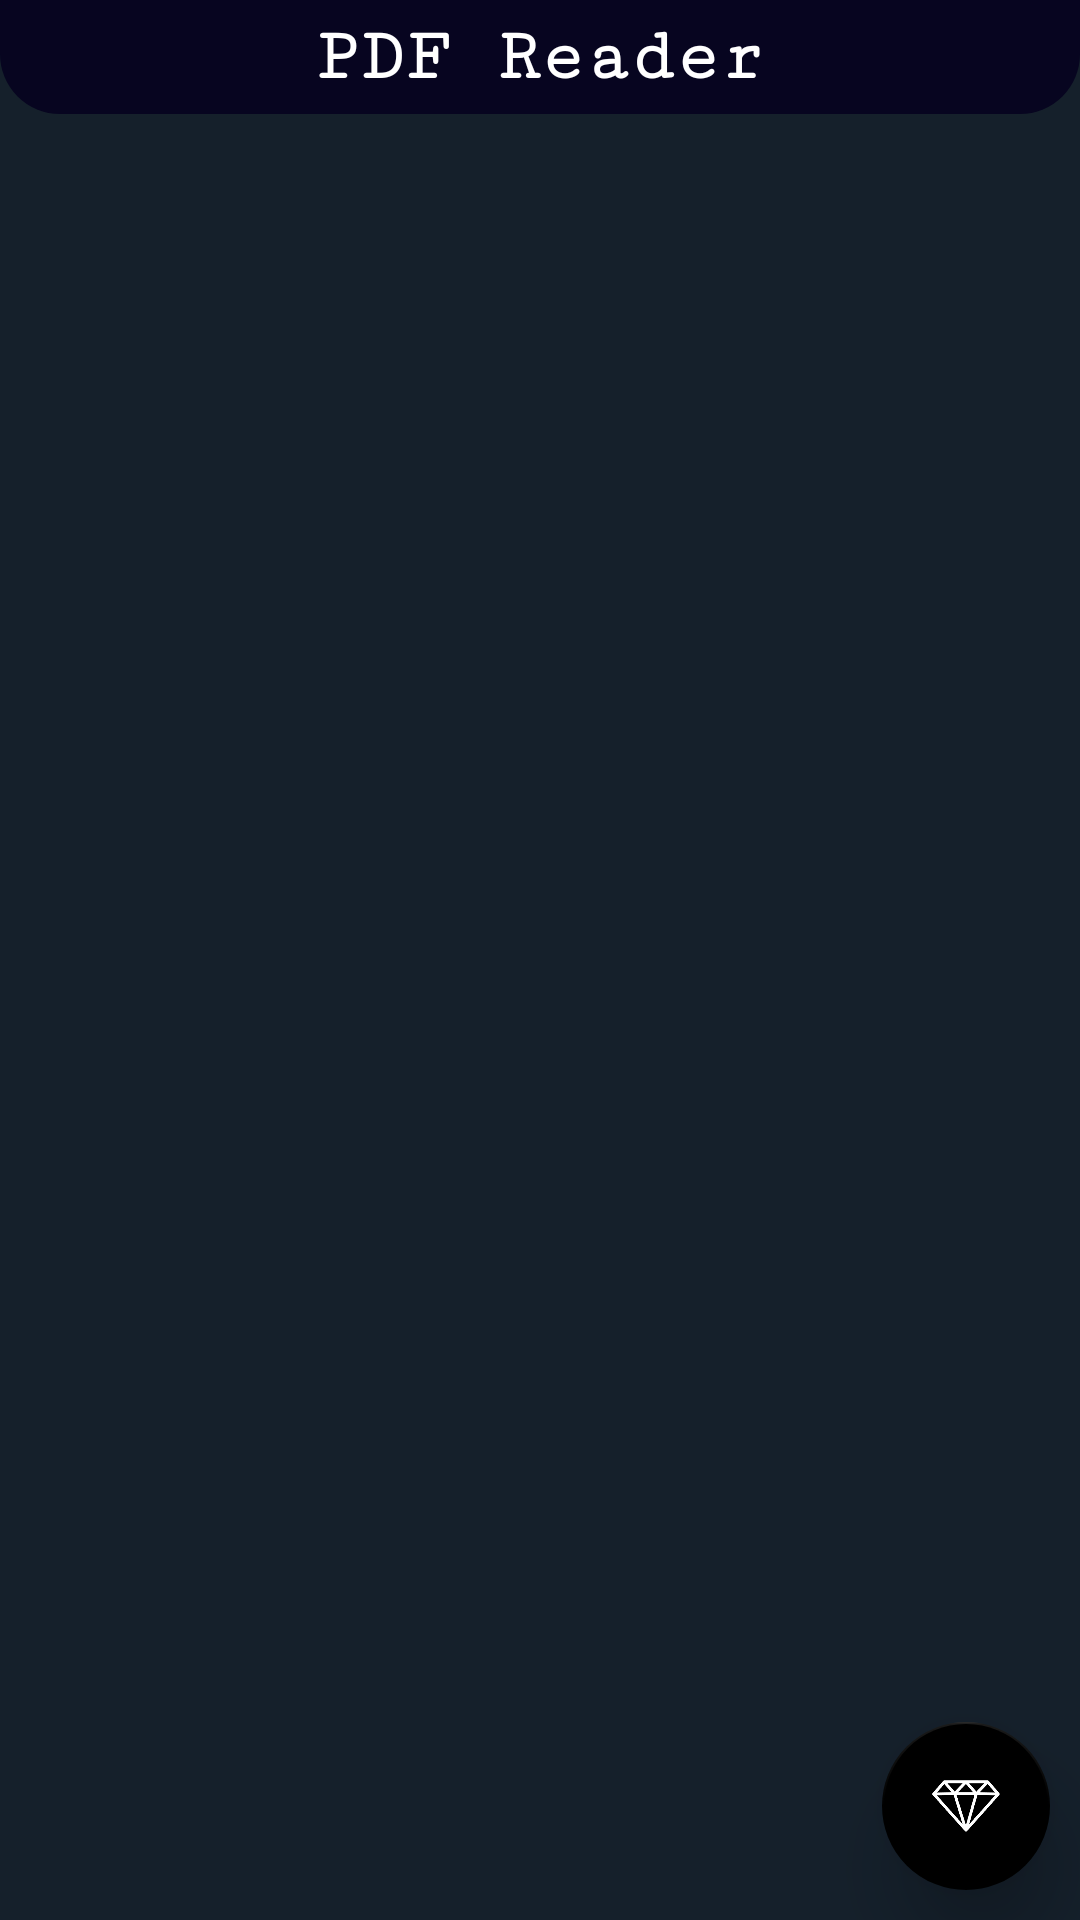

Named icons in this screenshot (1080 × 1920) and their bounding boxes, (x1, y1, x2, y2):
diamond: (882, 1724, 1050, 1890)
